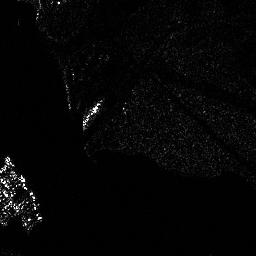ship: (81, 96, 104, 130)
